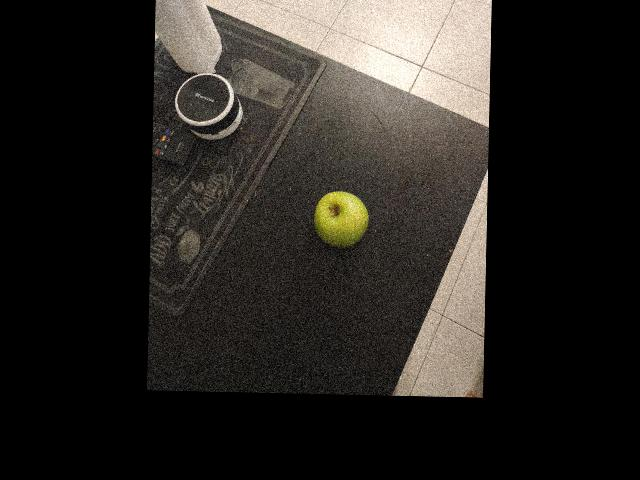apple: (389, 62, 464, 131)
